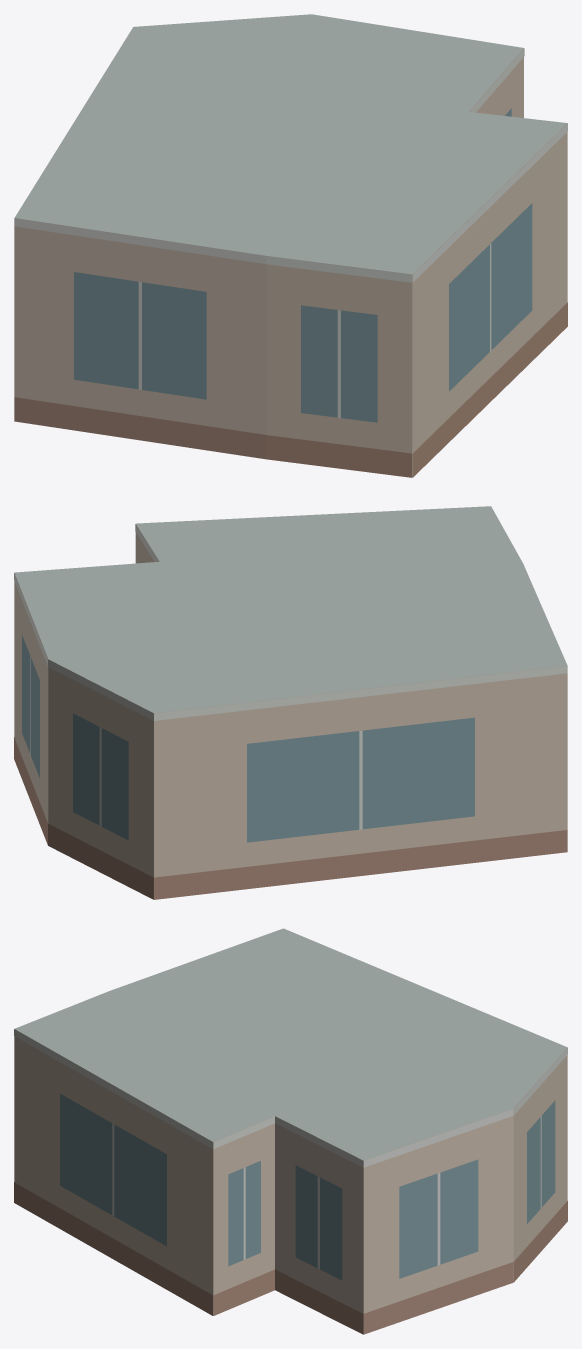
Rendered from survey-upis-32771245.glb.
3 renders of one model, top to bottom at view 1: azimuth 30°, elevation 25°; view 2: azimuth 150°, elevation 25°; view 3: azimuth 270°, elevation 25°, orthographic. The views are drawn at different scales.
Visible parts, largest first — view 1: survey-upis-32771245.tmp; view 2: survey-upis-32771245.tmp; view 3: survey-upis-32771245.tmp.
Boxes of the visible parts, bbox=[...] form: survey-upis-32771245.tmp: bbox=[14, 14, 567, 477]; survey-upis-32771245.tmp: bbox=[14, 506, 567, 899]; survey-upis-32771245.tmp: bbox=[14, 928, 567, 1334].
Size of the model in its own units: 8.75 by 3.05 by 8.81.
